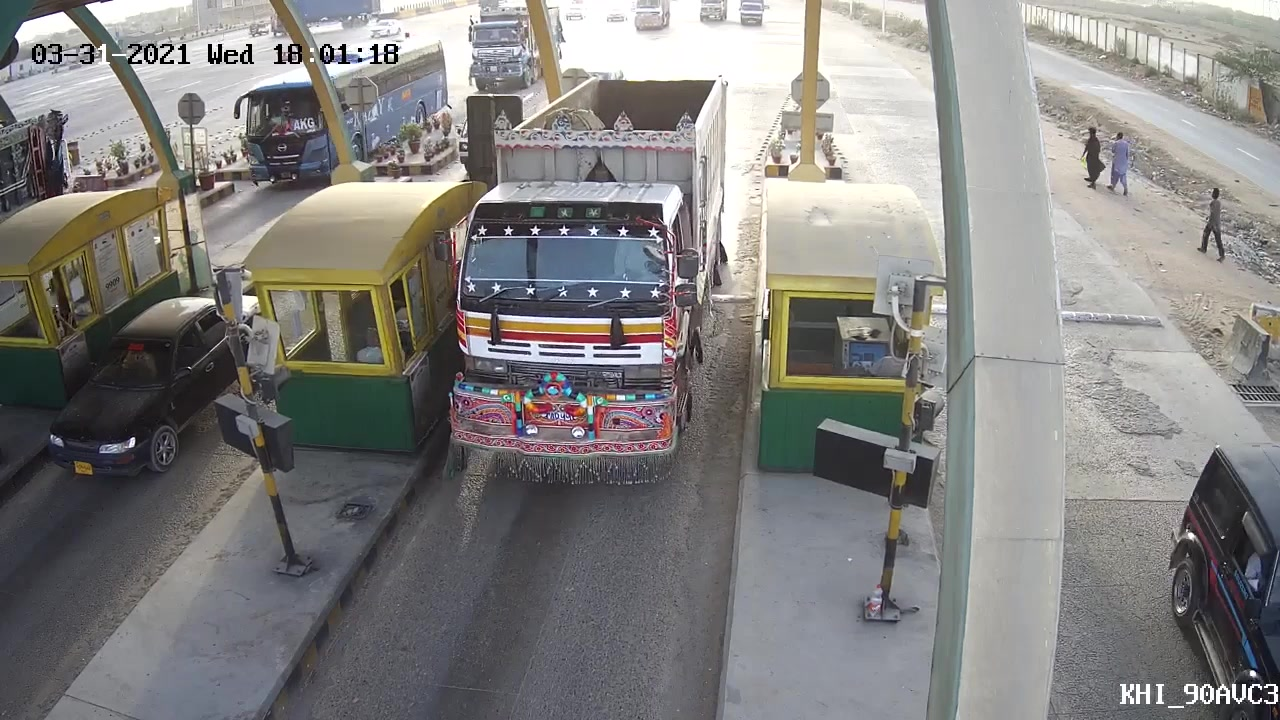F5: (424, 80, 739, 497)
